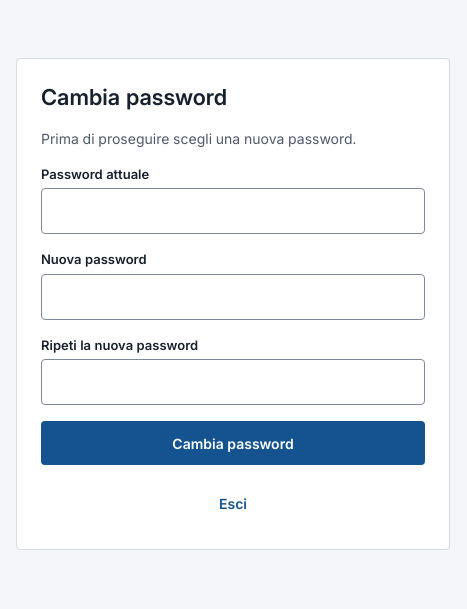
schermata /password › con la password attuale sbagliata mostra un messaggio in italiano
Type "sbagliata-sbagliata" into the password field labelled "Password attuale" at (233, 211), box [41,188,425,234]
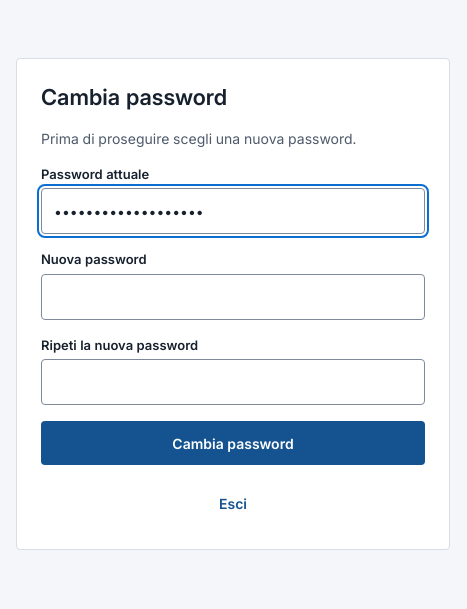
Type "nuova-password-sintetica" into the password field labelled "Nuova password" at (233, 296), box [41,274,425,320]
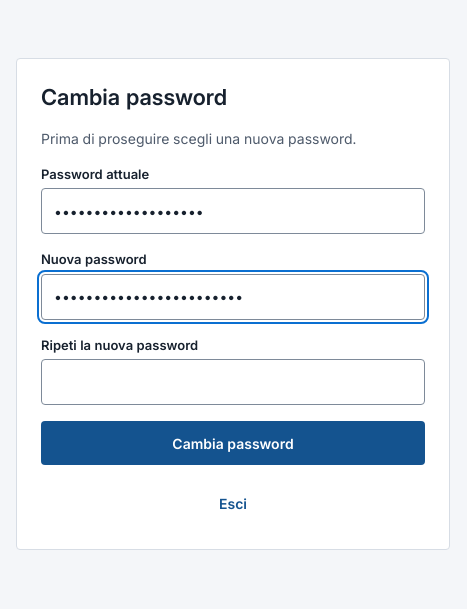
Type "nuova-password-sintetica" into the password field labelled "Ripeti la nuova password" at (233, 382), box [41,359,425,405]
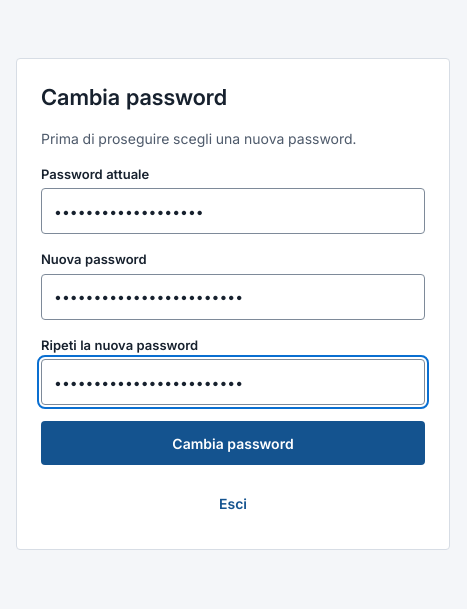
Click the button "Cambia password" at (233, 443), box [41,421,425,465]
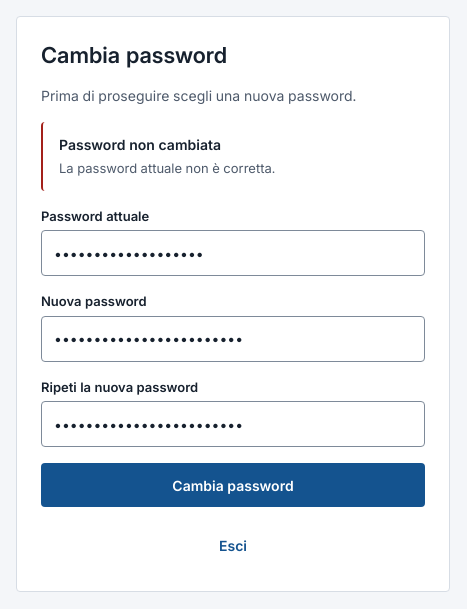
Expected: the text "La password attuale non è corretta." is shown, [59,160,275,176]
